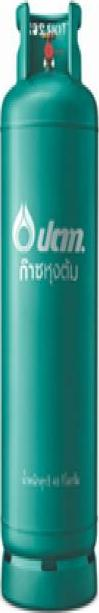cylinder: (1, 1, 99, 613)
